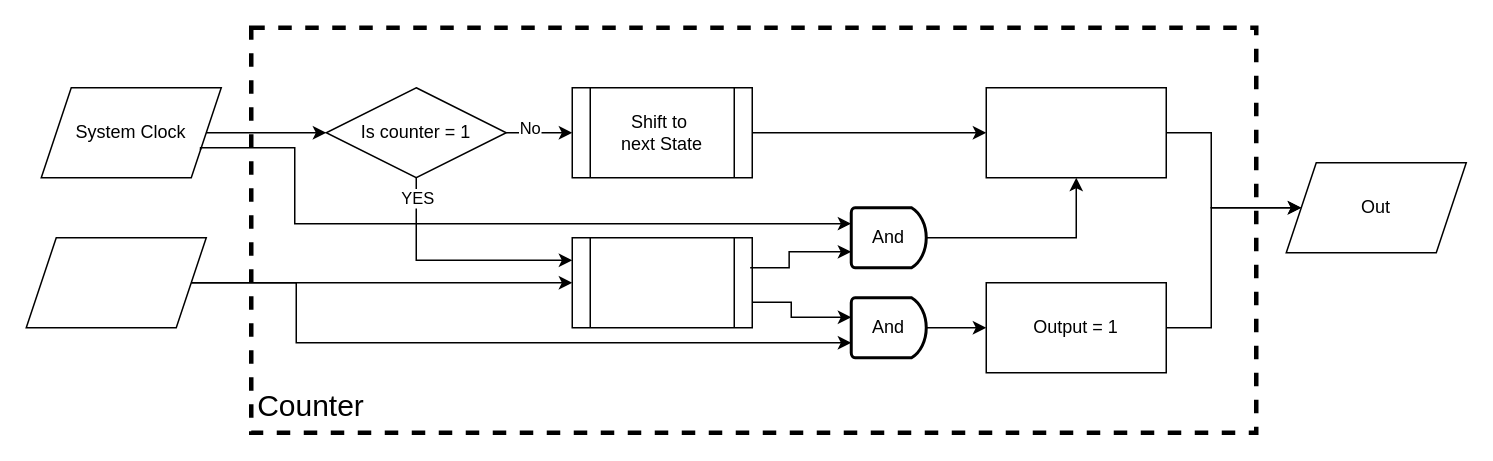
Some shapes in this 1493 by 461 pixel diagram are drawn without their labels. Here are the shapes that lost their labels. From the top down, the centre of each, then its label:
At (1075,132): "Output = !Output".
At (115,282): "Reset".
At (661,282): "Reset counter to 25M".
